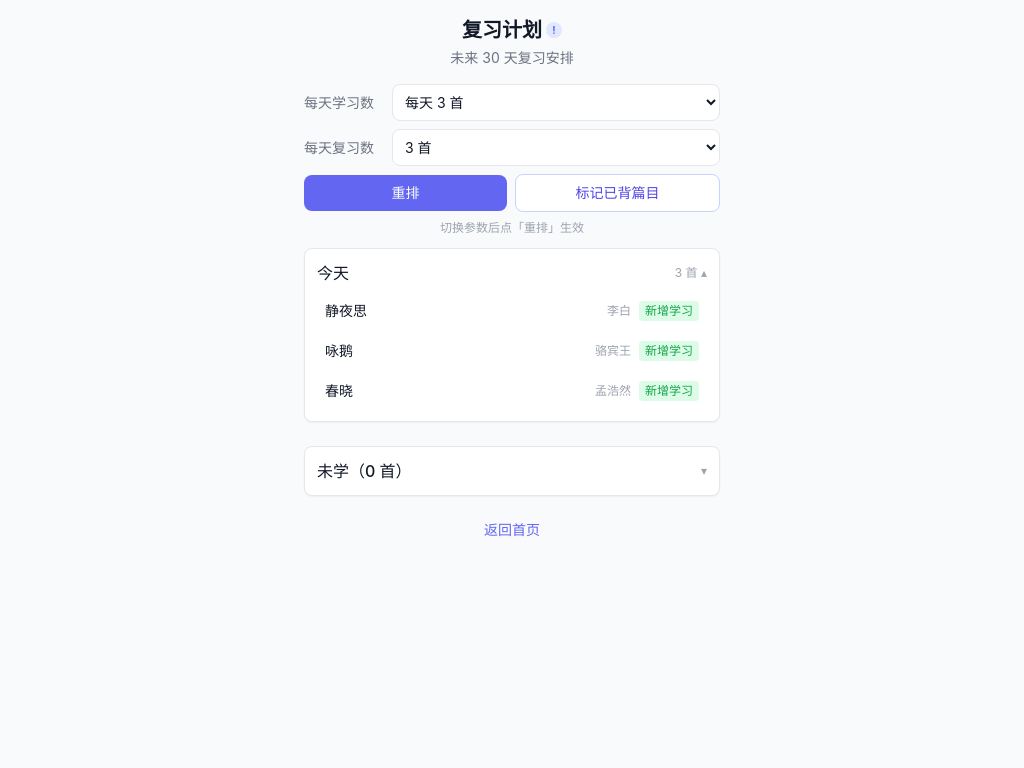
it: ReviewPlanPage › grade checkbox unselects all poems when already all selected
Step 1. Click the button "标记已背篇目" → x=618, y=193, box [515,174,720,212]
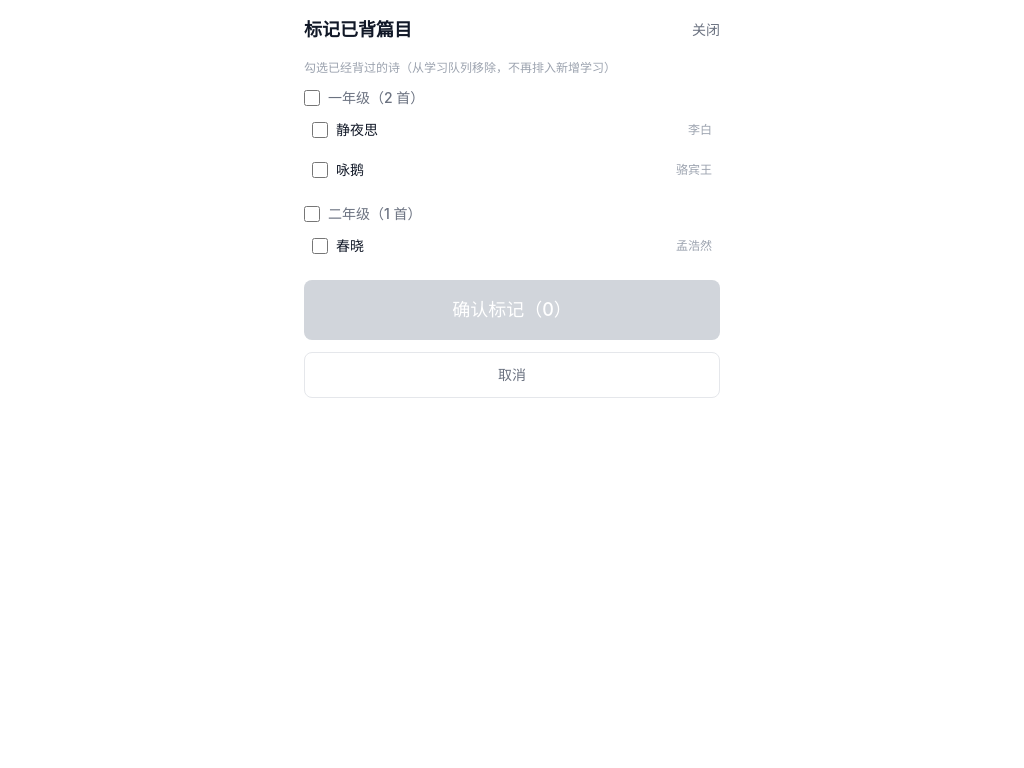
// 先全选一年级，再点一次取消
Step 2. Click the checkbox labelled "一年级（2 首）" → x=312, y=98, box [304,90,320,106]
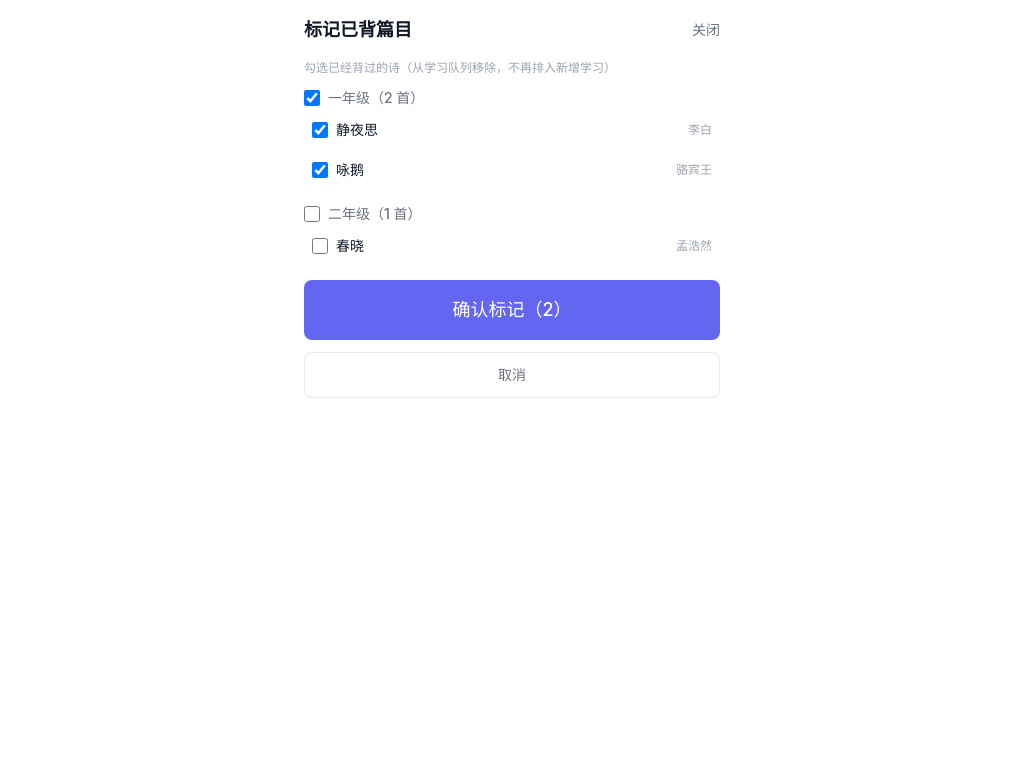
Step 3. Click the checkbox labelled "一年级（2 首）" → x=312, y=98, box [304,90,320,106]
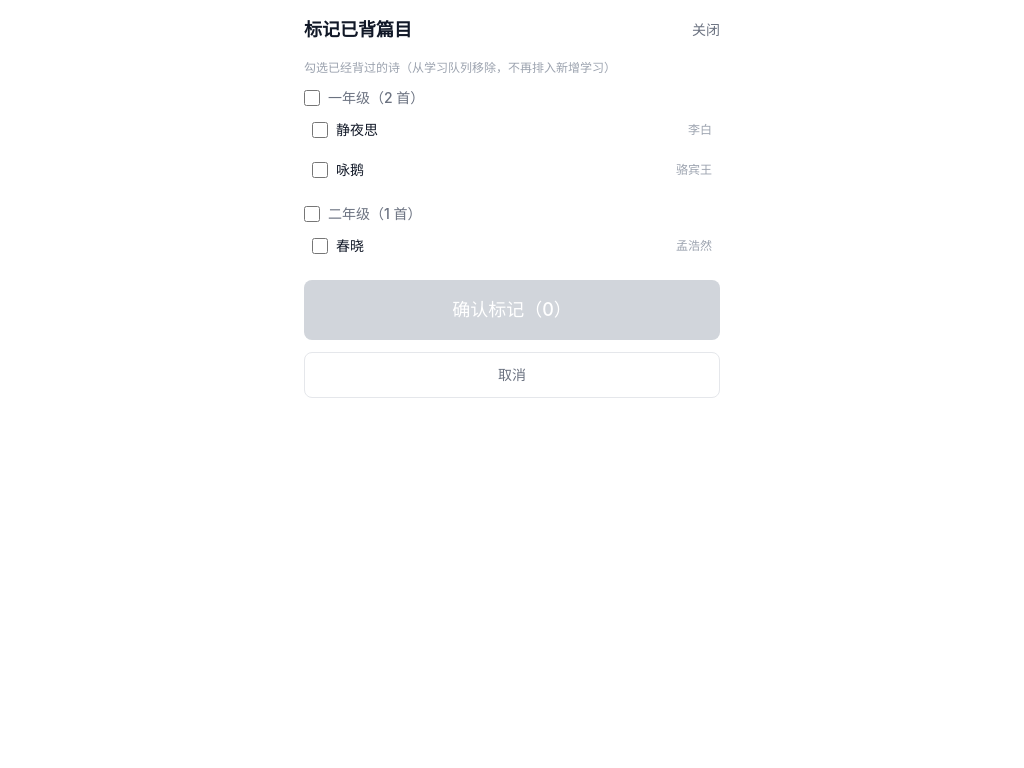
Check: the button "确认标记（0）" is shown, box [304,280,720,340]
